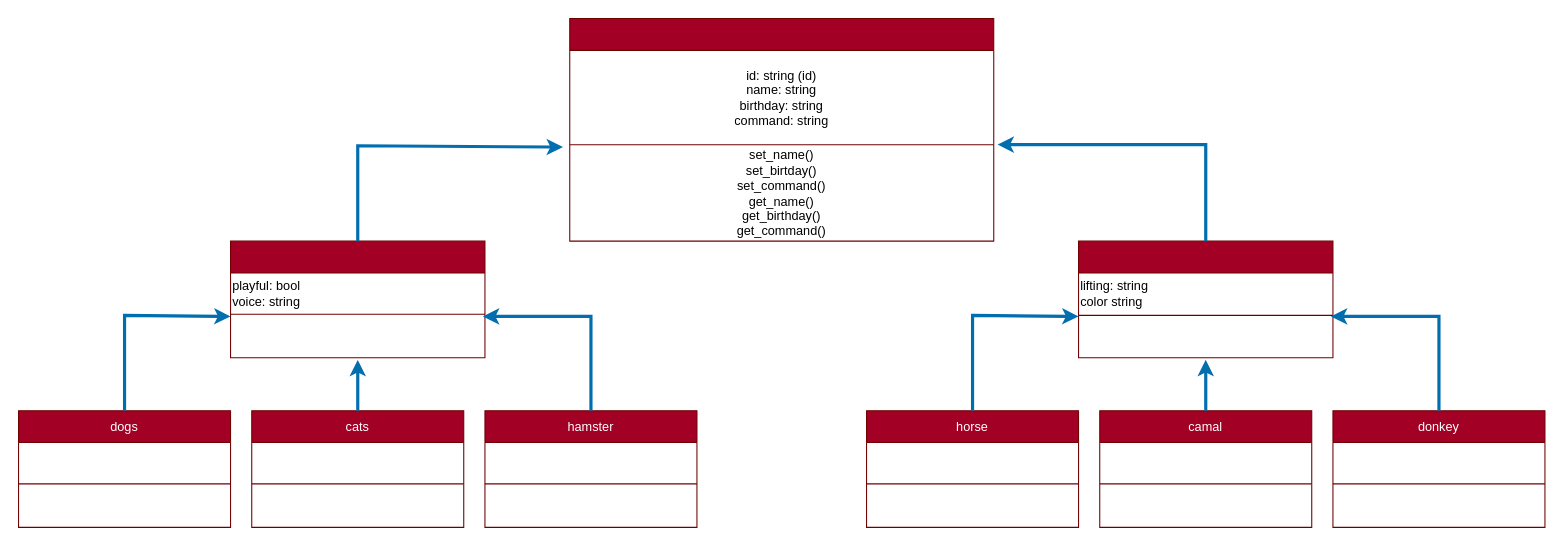
Image size: 1563x546. Some labels were removed from this diagram. Each missing label, with the box of its shape:
animal: (569, 17, 994, 241)
pack_animals: (1077, 240, 1333, 358)
pets: (229, 240, 485, 358)
